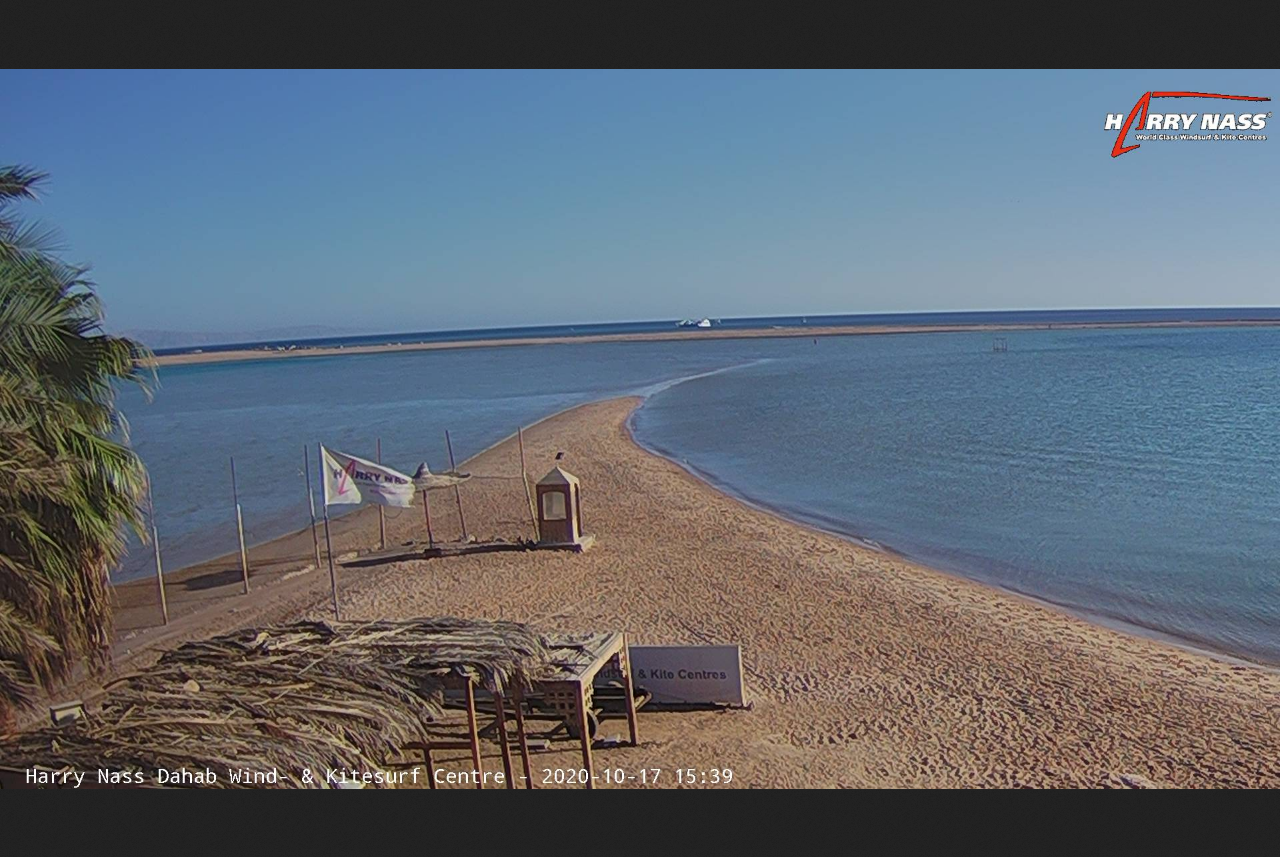yes: (316, 444, 420, 511)
